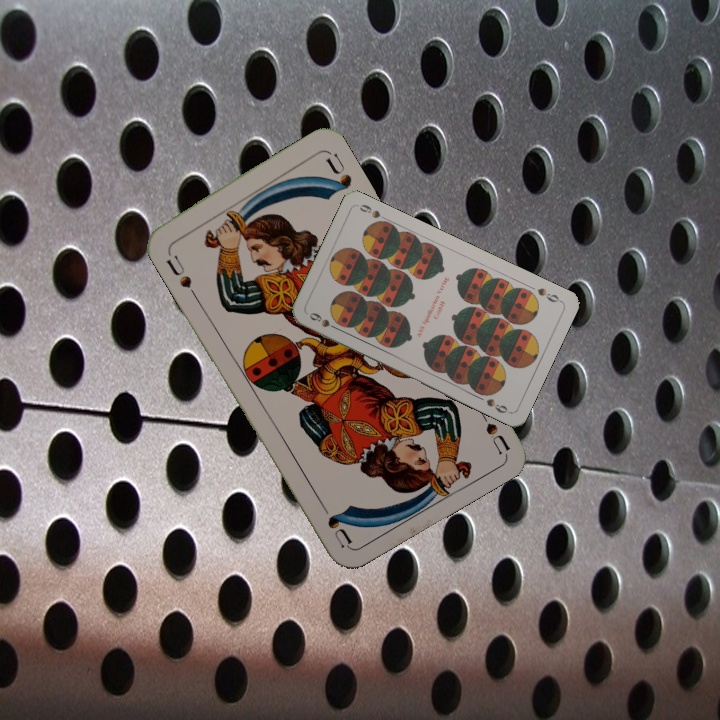S9: (305, 308, 343, 333), (533, 283, 564, 305)
SU: (471, 400, 512, 455), (161, 251, 194, 291)
